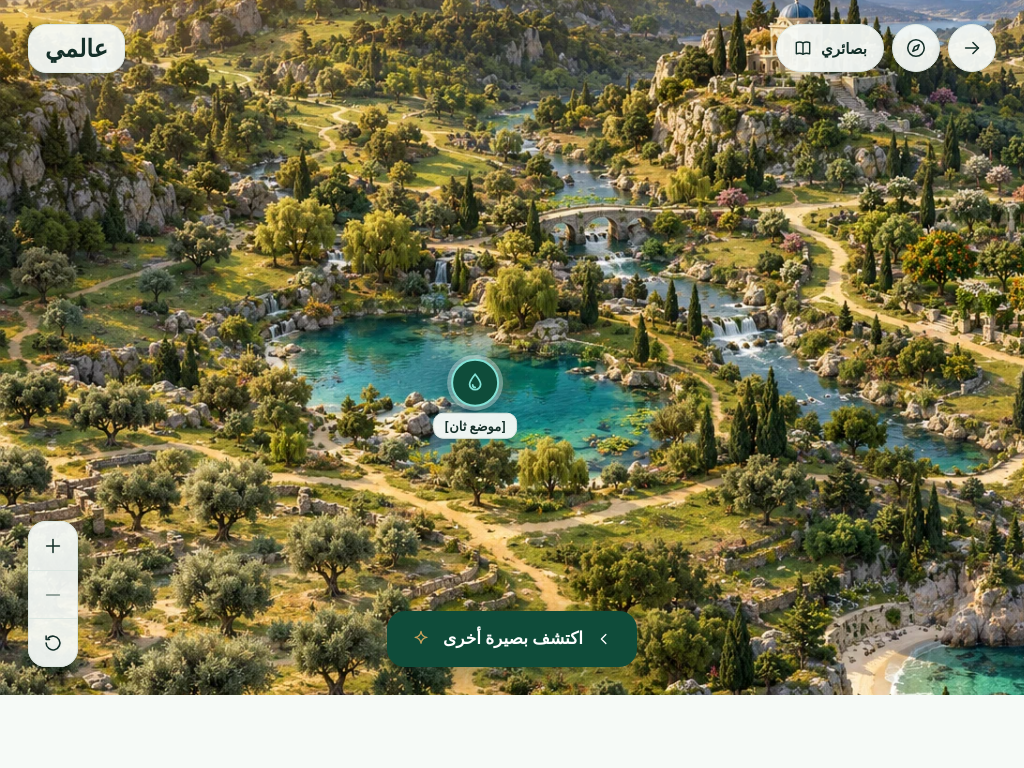
Test case: WorldScreen › explains itself on request only, with the site pages, and gives focus back
This screenshot has width=1024, height=768.
Click the button named "كيف يعمل عالمي؟". click: (916, 48)
box: [892,24,940,72]
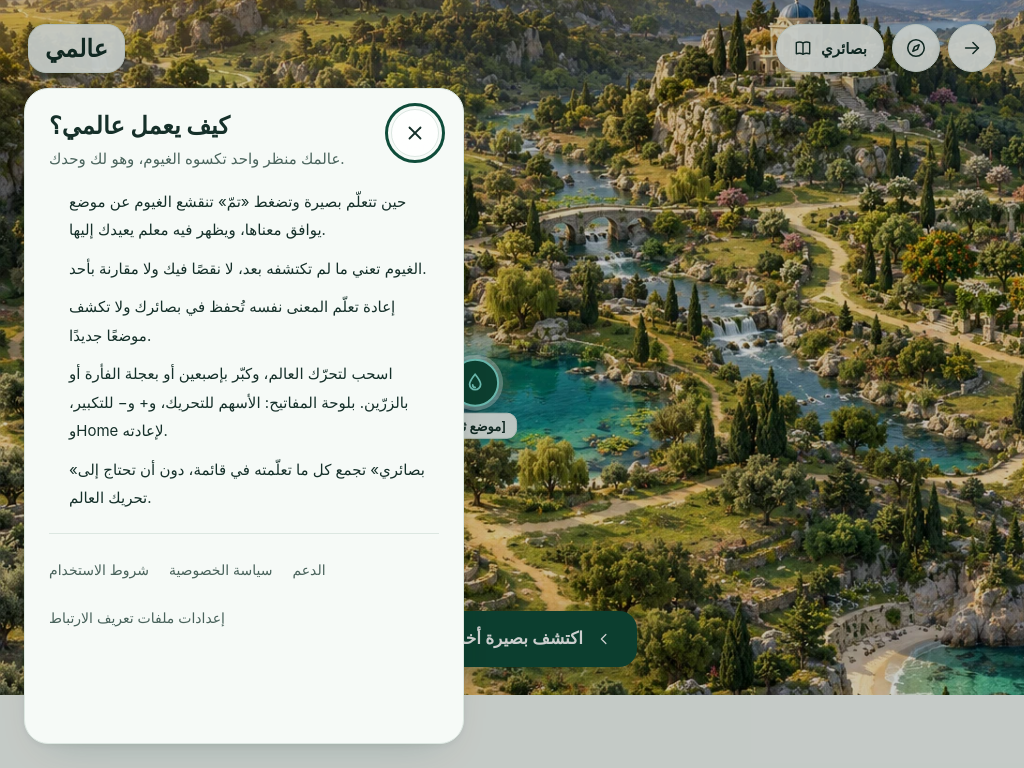
Press Escape
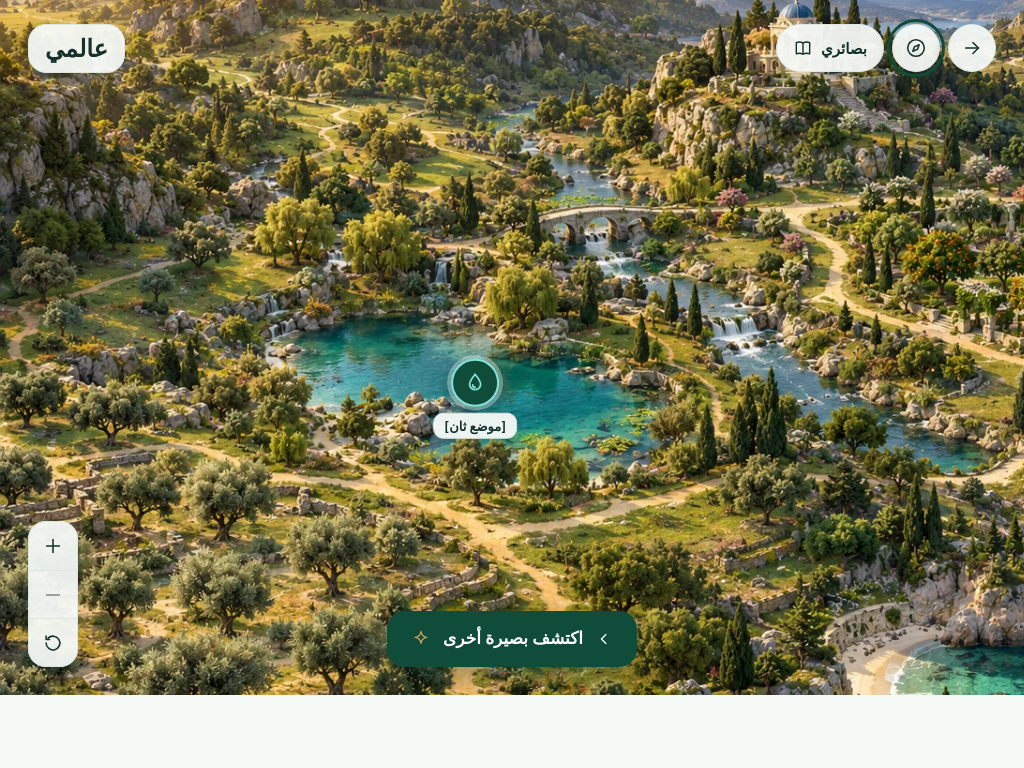
Now the dialog is gone
